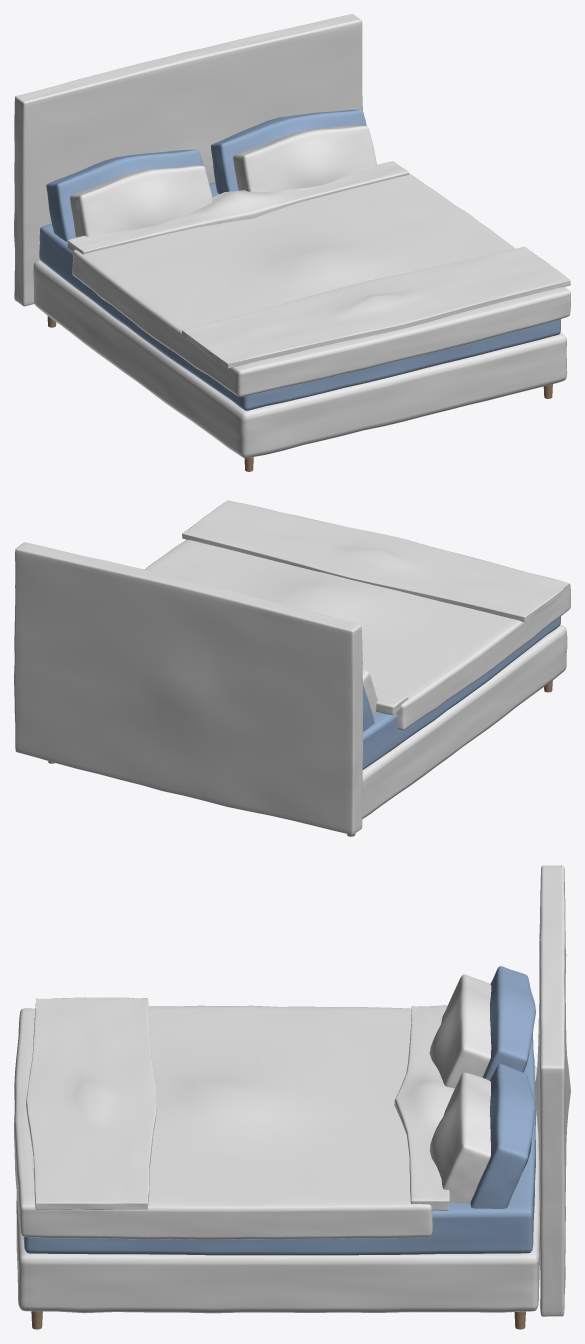
Rendered from bed__0.glb.
3 renders of one model, top to bottom at view 1: azimuth 30°, elevation 25°; view 2: azimuth 150°, elevation 25°; view 3: azimuth 270°, elevation 25°, orthographic. The views are drawn at different scales.
Visible parts, largest first — view 1: duvet, headboard, bed base, throw, mattress, pillow.002, pillow.003, duvet fold, pillow, pillow.001; view 2: headboard, duvet, throw, bed base, mattress, duvet fold; view 3: duvet, bed base, throw, mattress, headboard, duvet fold, pillow.001, pillow.003, pillow.002, pillow.
Part boxes in pixels (x1=…): duvet: x1=72, y1=173, x2=570, y2=396; headboard: x1=14, y1=14, x2=362, y2=306; bed base: x1=33, y1=260, x2=567, y2=458; throw: x1=182, y1=246, x2=570, y2=368; mattress: x1=39, y1=182, x2=560, y2=410; pillow.002: x1=70, y1=165, x2=212, y2=237; pillow.003: x1=233, y1=125, x2=376, y2=192; duvet fold: x1=67, y1=161, x2=408, y2=254; pillow: x1=46, y1=149, x2=202, y2=241; pillow.001: x1=210, y1=109, x2=366, y2=193; headboard: x1=14, y1=542, x2=363, y2=834; duvet: x1=145, y1=503, x2=570, y2=730; throw: x1=182, y1=500, x2=570, y2=622; bed base: x1=362, y1=625, x2=567, y2=818; mattress: x1=362, y1=616, x2=560, y2=769; duvet fold: x1=374, y1=687, x2=408, y2=715; duvet: x1=14, y1=1005, x2=432, y2=1239; bed base: x1=16, y1=1066, x2=539, y2=1313; throw: x1=26, y1=997, x2=156, y2=1209; mattress: x1=23, y1=1034, x2=536, y2=1255; headboard: x1=534, y1=865, x2=570, y2=1316; duvet fold: x1=394, y1=1005, x2=454, y2=1210; pillow.001: x1=470, y1=1064, x2=535, y2=1208; pillow.003: x1=429, y1=1072, x2=490, y2=1203; pillow.002: x1=429, y1=974, x2=491, y2=1088; pillow: x1=483, y1=966, x2=535, y2=1080.
Size of the model in its own units: 1.96 by 1.22 by 2.24.
Materials: 6 (2 with a texture image).
